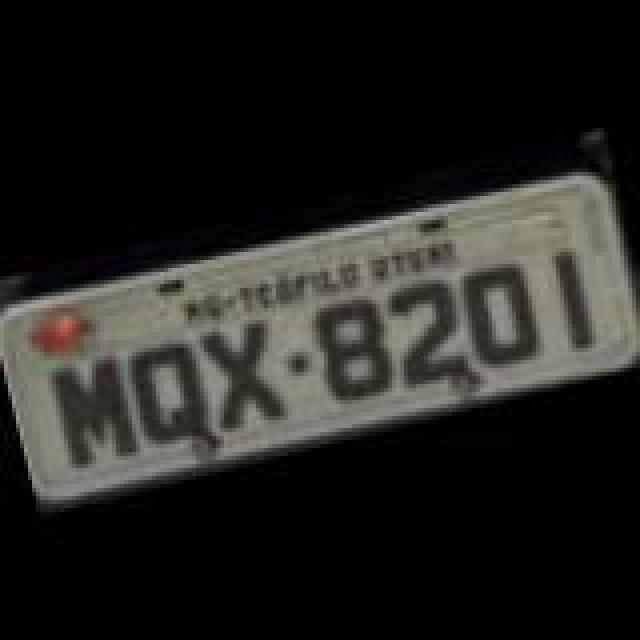1: (542, 244, 602, 348)
2: (376, 268, 472, 388)
8: (306, 284, 398, 404)
M: (44, 350, 148, 474)
O: (458, 256, 550, 368)
Q: (120, 334, 216, 450)
X: (194, 314, 294, 438)
